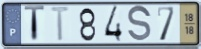4: (102, 5, 125, 44)
7: (157, 6, 176, 43)
8: (78, 7, 97, 43)
S: (126, 5, 153, 45)
T: (49, 5, 73, 44), (23, 4, 46, 44)
